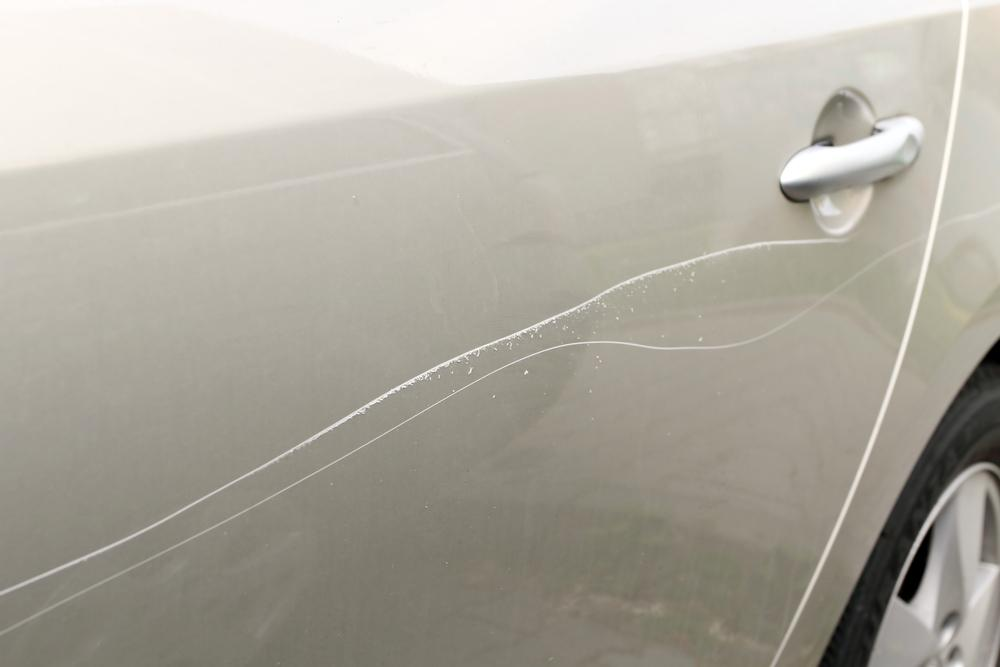scratch: (0, 237, 854, 637)
